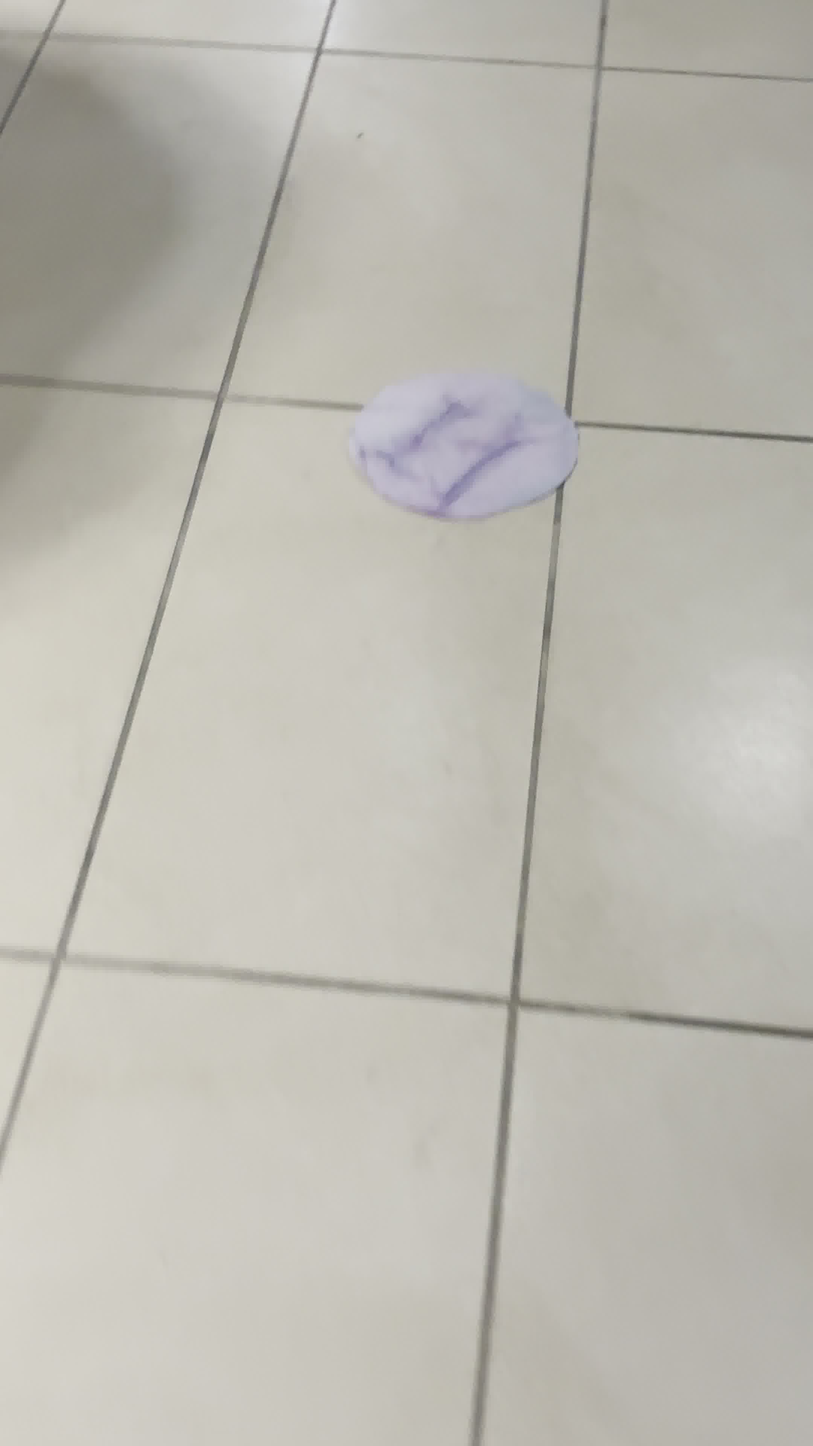Target: (355, 366, 583, 524)
